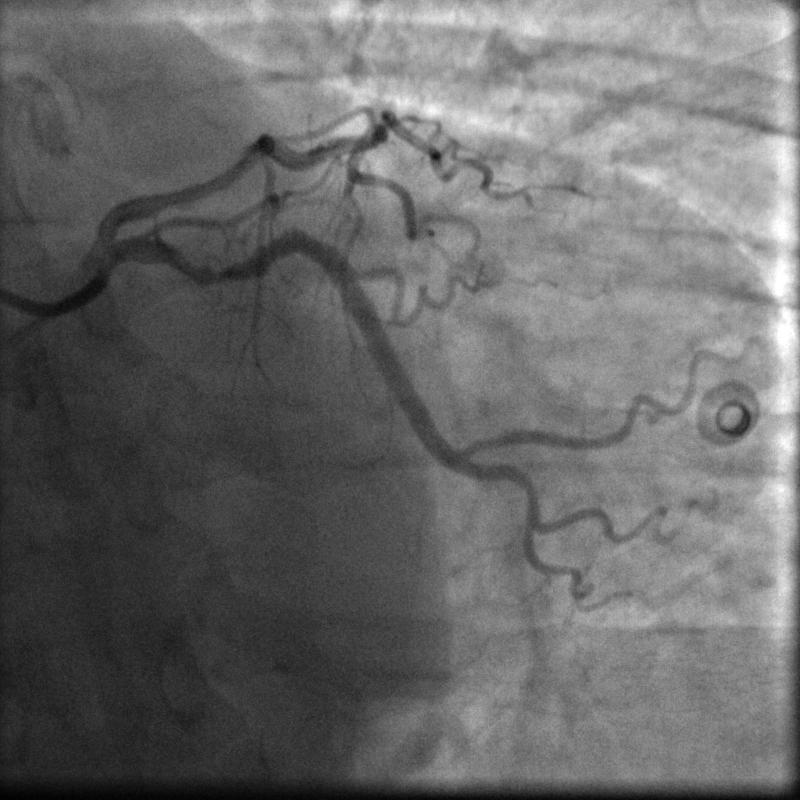Stenosis: (193, 259, 250, 286)
